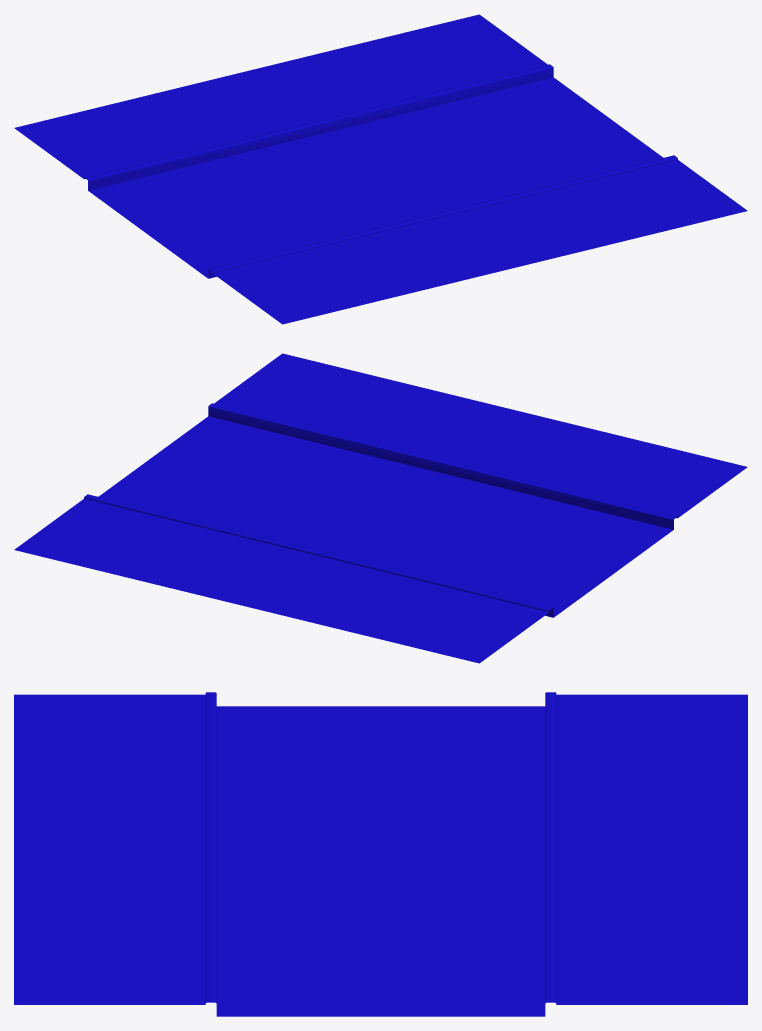
The picture shows the model from 3 angles, top to bottom: view 1: azimuth 30°, elevation 25°; view 2: azimuth 150°, elevation 25°; view 3: azimuth 270°, elevation 25°; orthographic projection. The views are drawn at different scales.
Visible parts, largest first — view 1: R_06; view 2: R_06; view 3: R_06.
Part boxes in pixels (bbox=[...]): R_06: bbox=[14, 14, 747, 324]; R_06: bbox=[14, 353, 747, 663]; R_06: bbox=[14, 692, 747, 1016].
Size of the model in its own units: 1001 by 21.13 by 1000.
